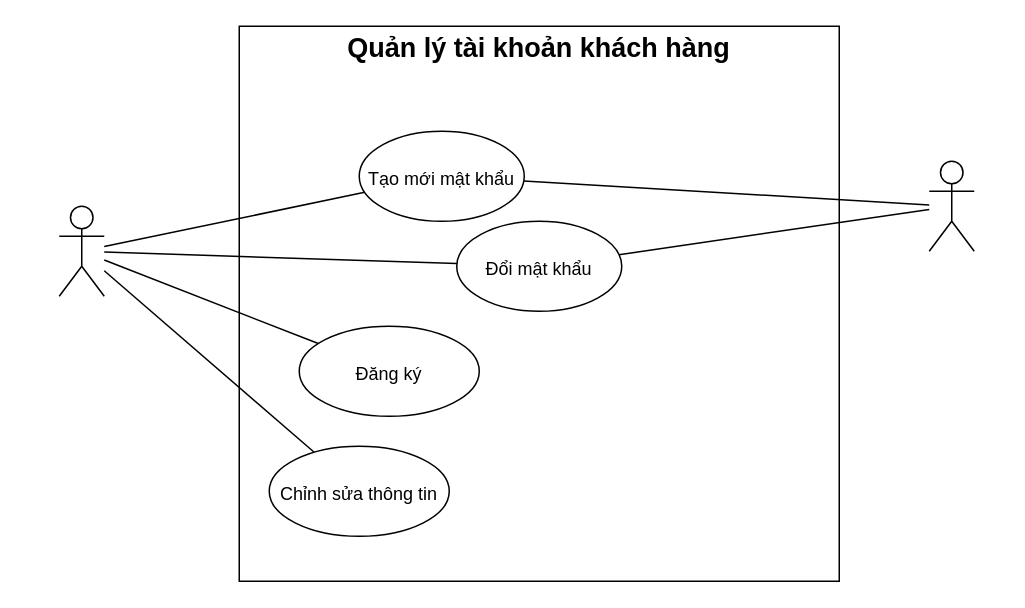
The diagram is 1025 pixels wide and 608 high, and some of its shapes have lost their labels. The centre of each missing label's shape, as x and y in pixels:
Khách hàng: the point at 81,250
Nhân viên: the point at 951,205
